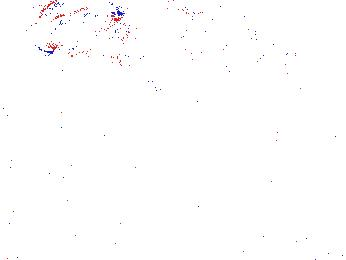moon jellyfish: (189, 1, 261, 99), (110, 2, 206, 63), (33, 1, 123, 53), (1, 2, 49, 99)
